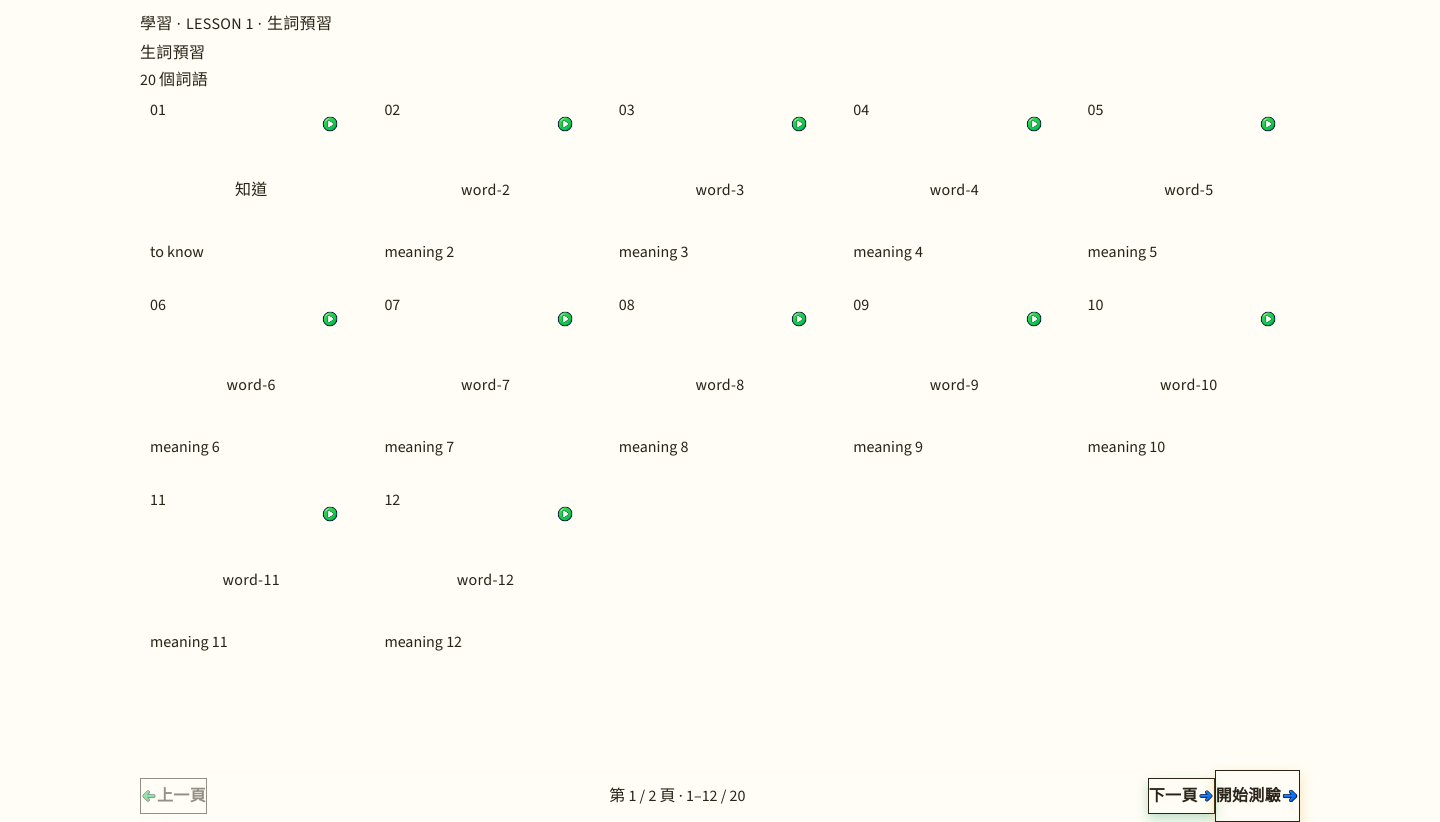
Test case: VocabularyPreviewPage › paginates larger vocabulary sets to keep review pages short
Expected: the element with class "sa-vocab-preview__grid" is shown, [140, 92, 1300, 665]
Expected: the element named "生詞頁面" is shown, [140, 770, 1300, 821]
Click the button "下一頁" at (1181, 796), box [1148, 778, 1215, 814]
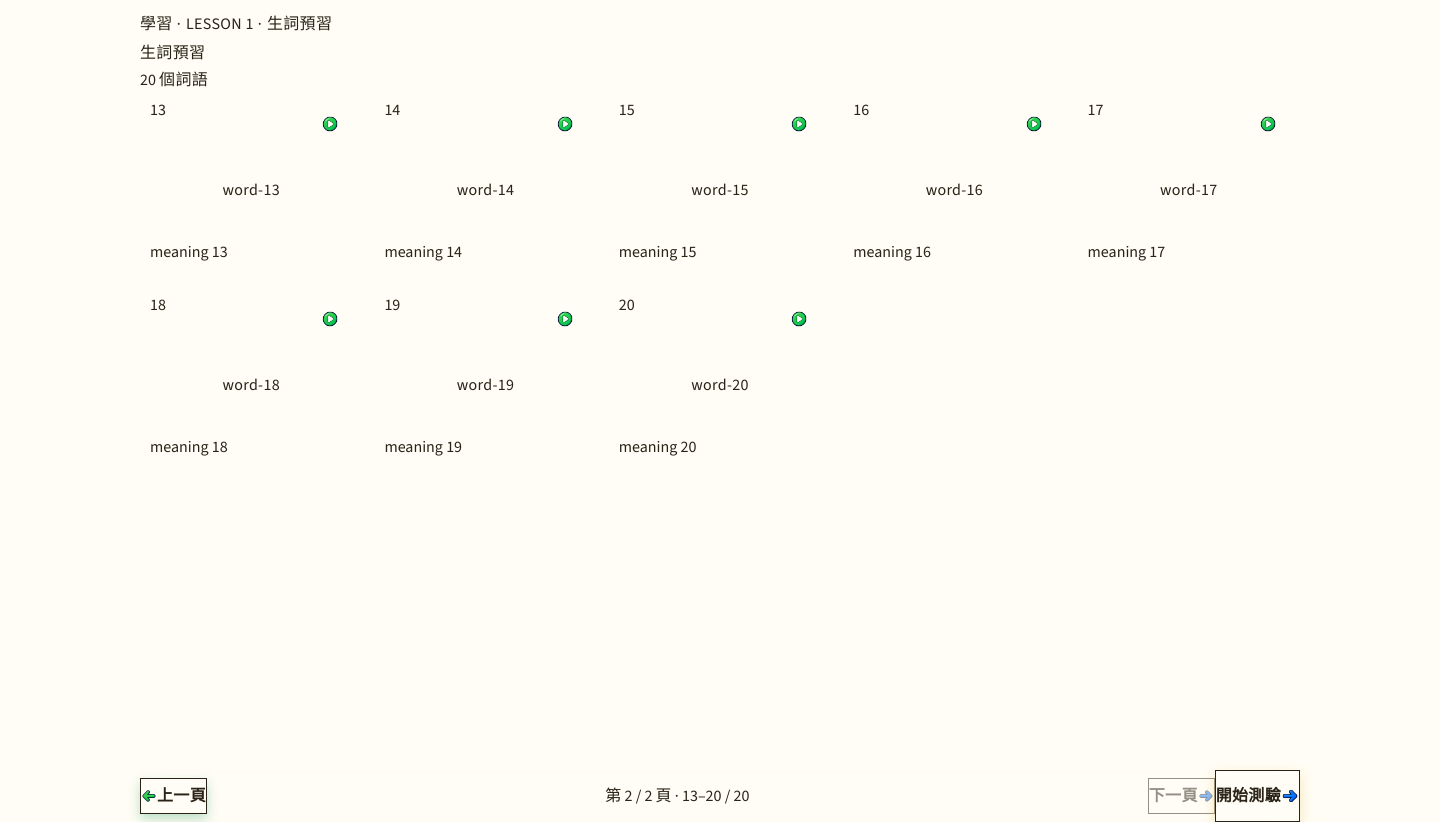
Result: the text "13" is shown at [150, 102, 166, 118]
Result: the message reads "第 2 / 2 頁 · 13–20 / 20" at [605, 785, 749, 806]
Result: the button "下一頁" is disabled at [1148, 778, 1215, 814]
